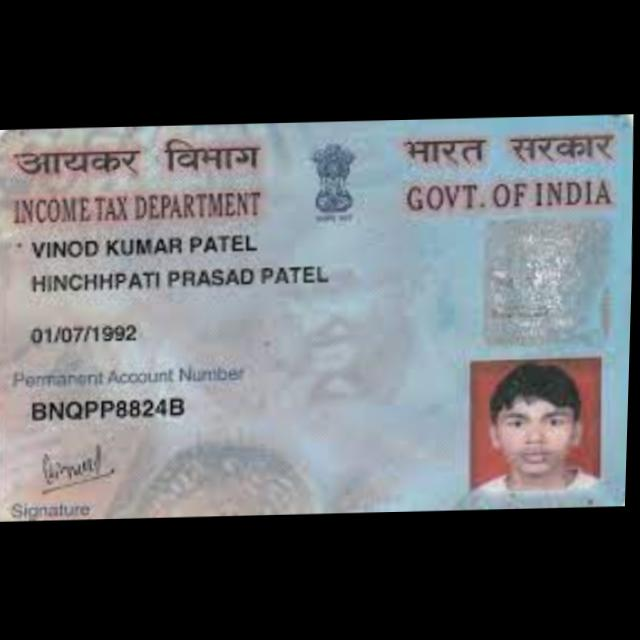pan: (0, 114, 637, 521)
